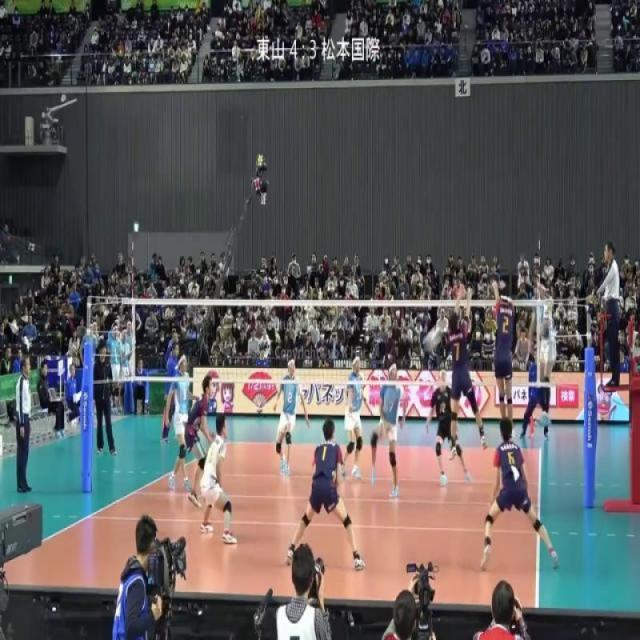volleyball: (422, 324, 443, 354)
